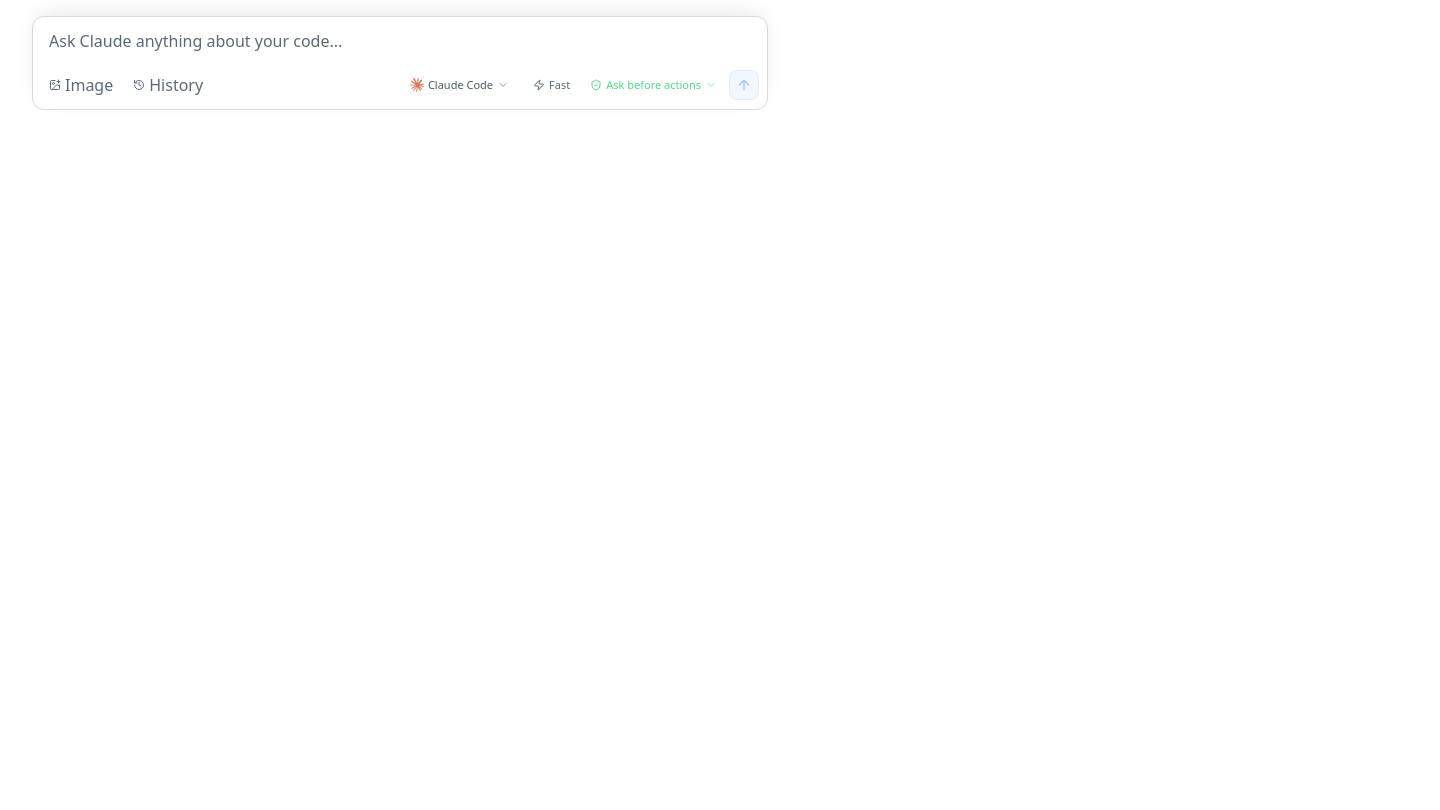
Test case: PromptInput browser › opens file picker and inserts a file path
Type "@" into the field at (400, 41), box [33, 17, 767, 65]
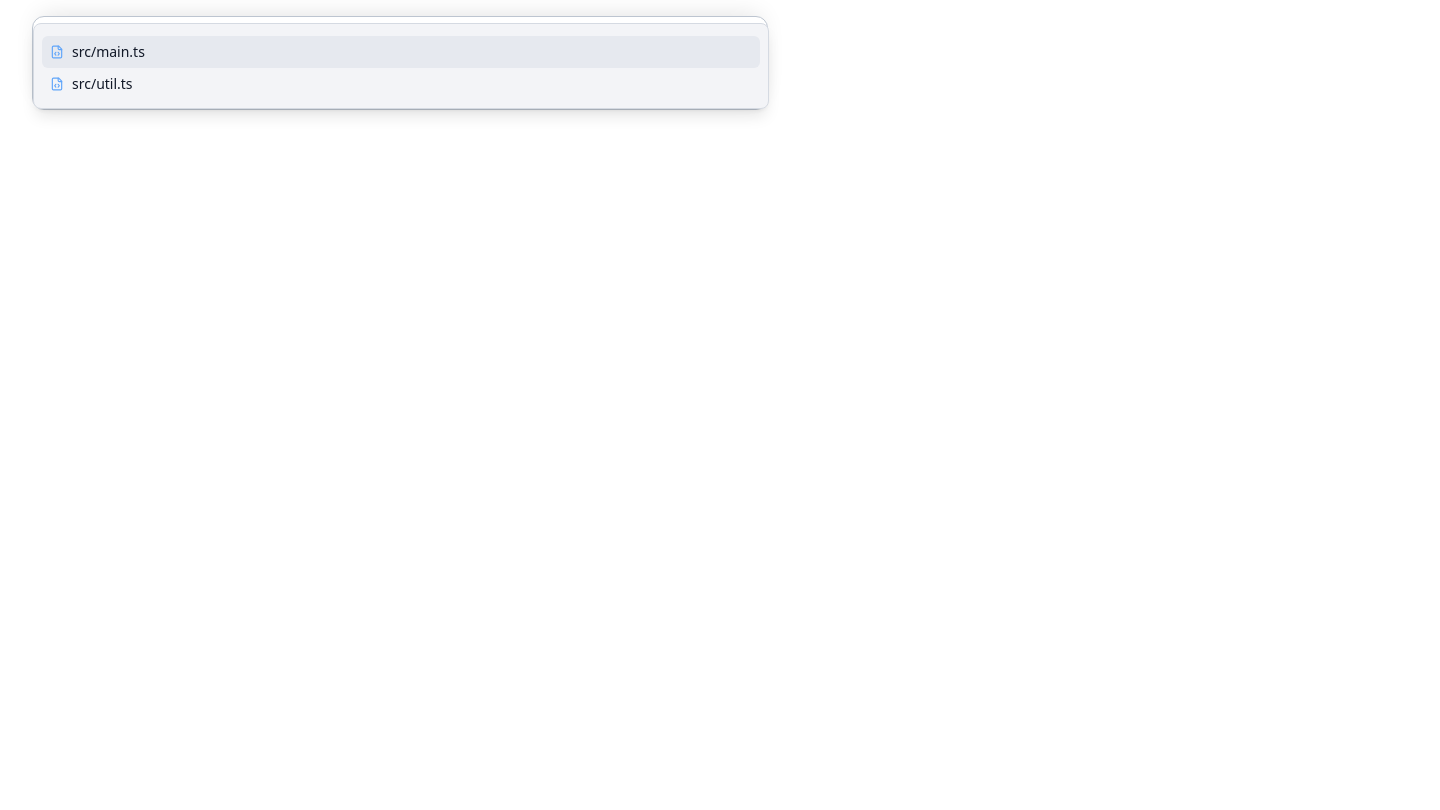
Expected: the text "src/main.ts" is shown, [72, 42, 145, 62]
Press Enter
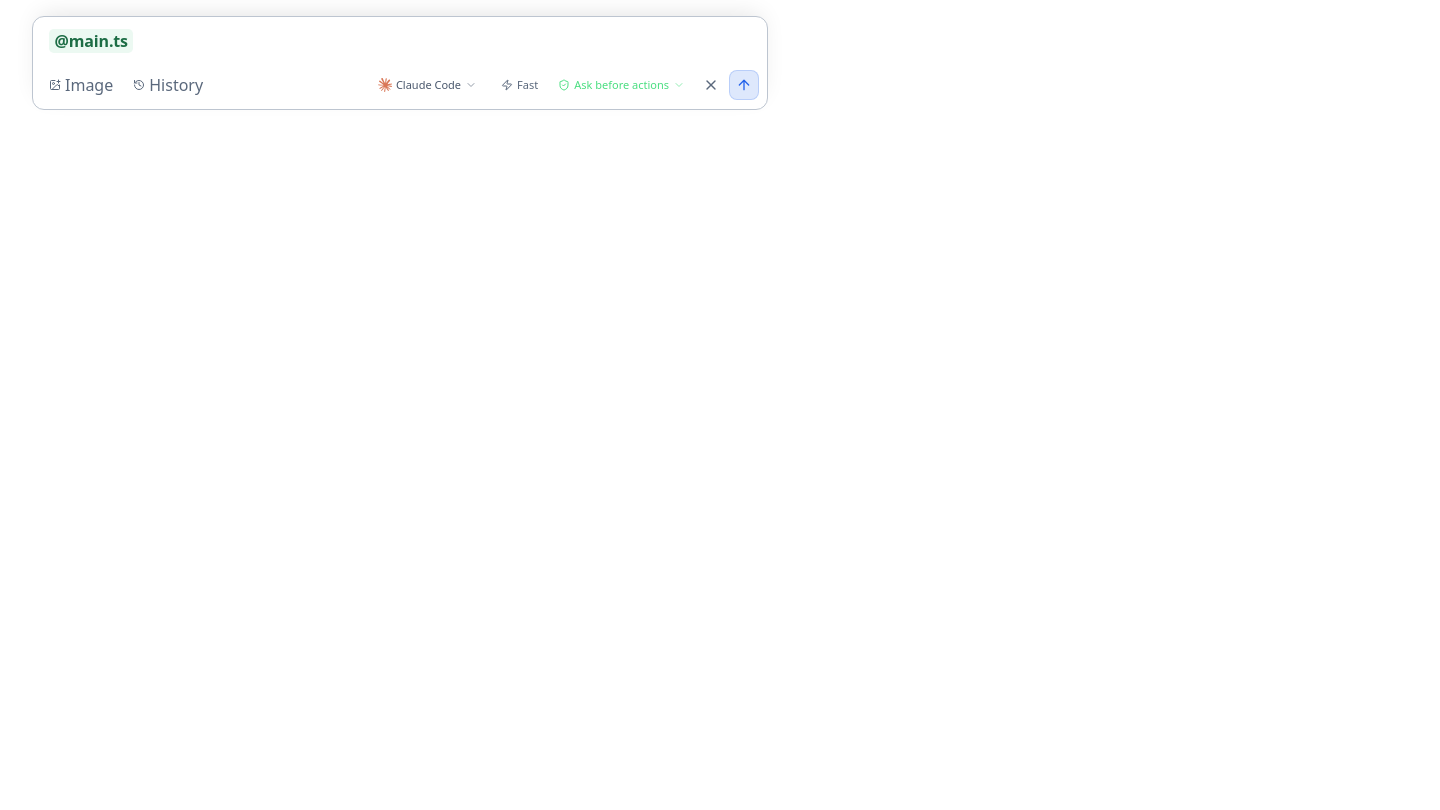
Expected: the text "@main.ts" is shown, [49, 29, 134, 53]
